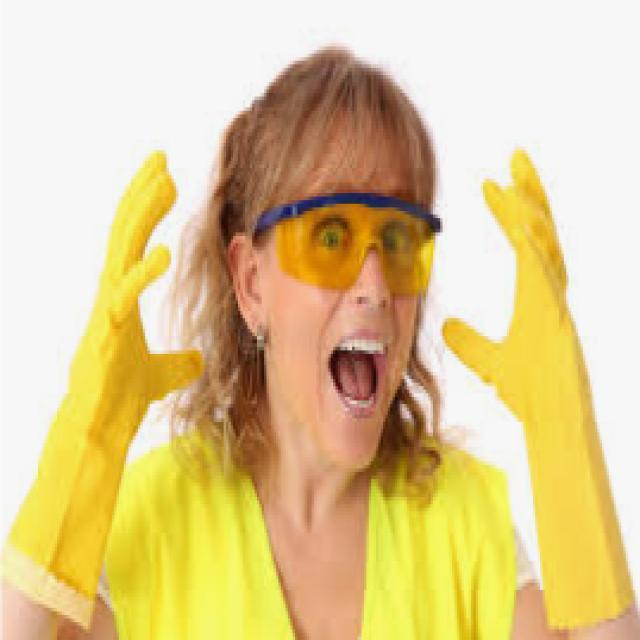glasses: (249, 198, 444, 296)
